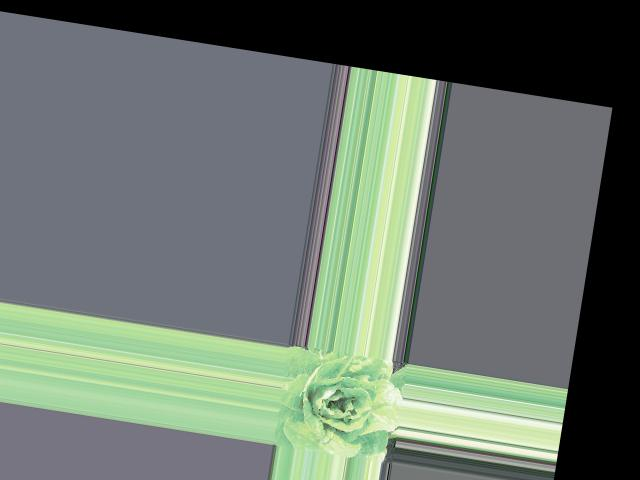lettuce: (275, 343, 403, 460)
